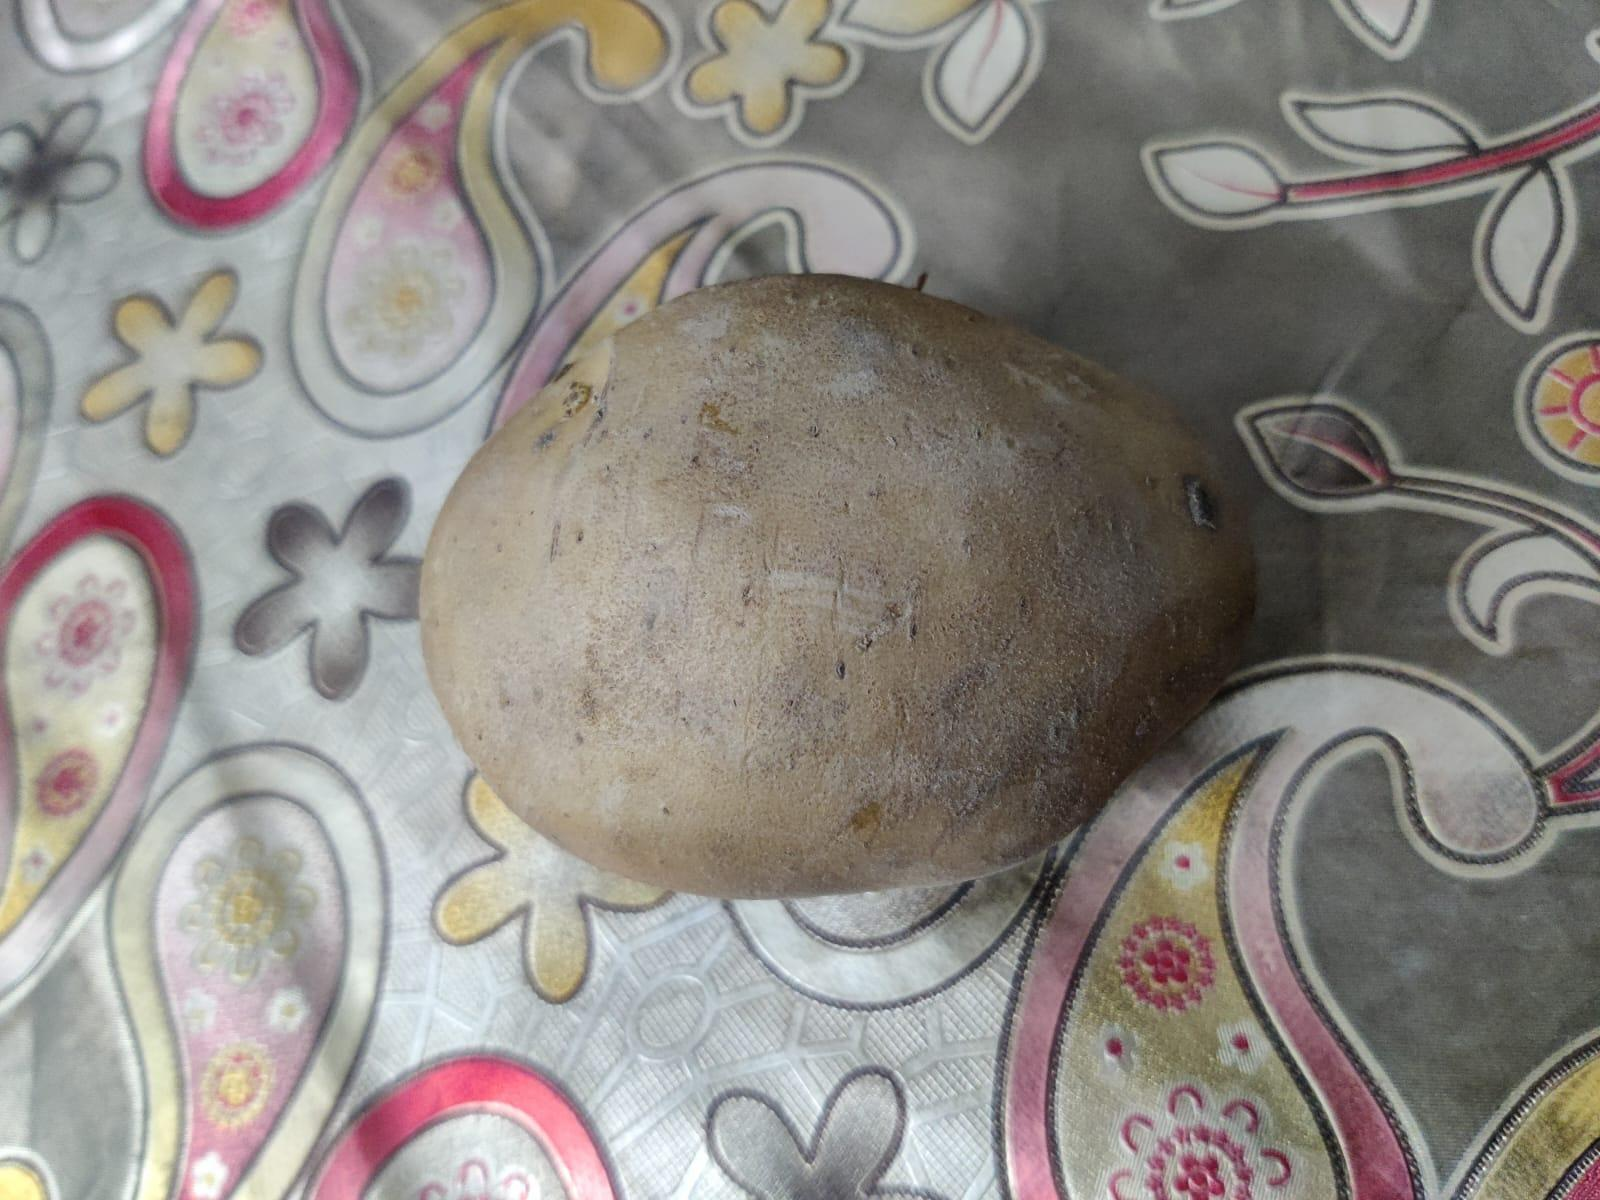non-mango: (417, 265, 1256, 896)
